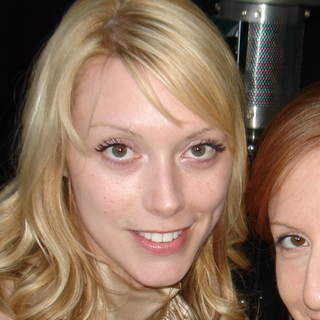eye: (92, 139, 140, 165), (181, 139, 226, 164), (271, 229, 312, 253)
